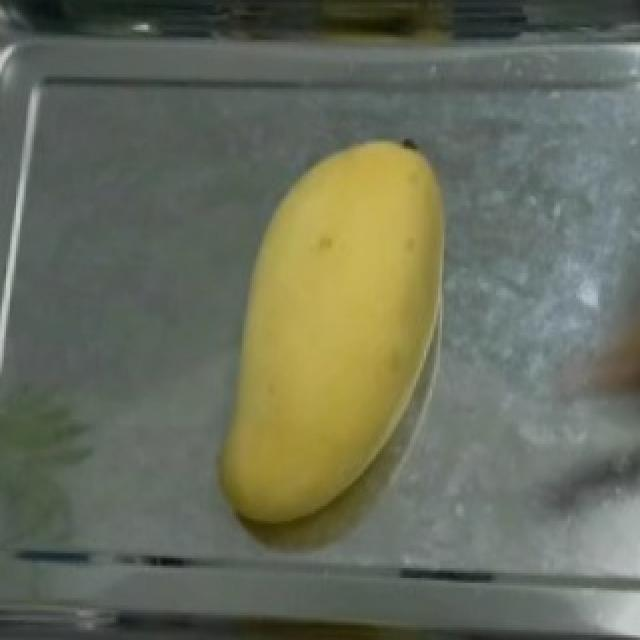fruit: (220, 132, 464, 506)
